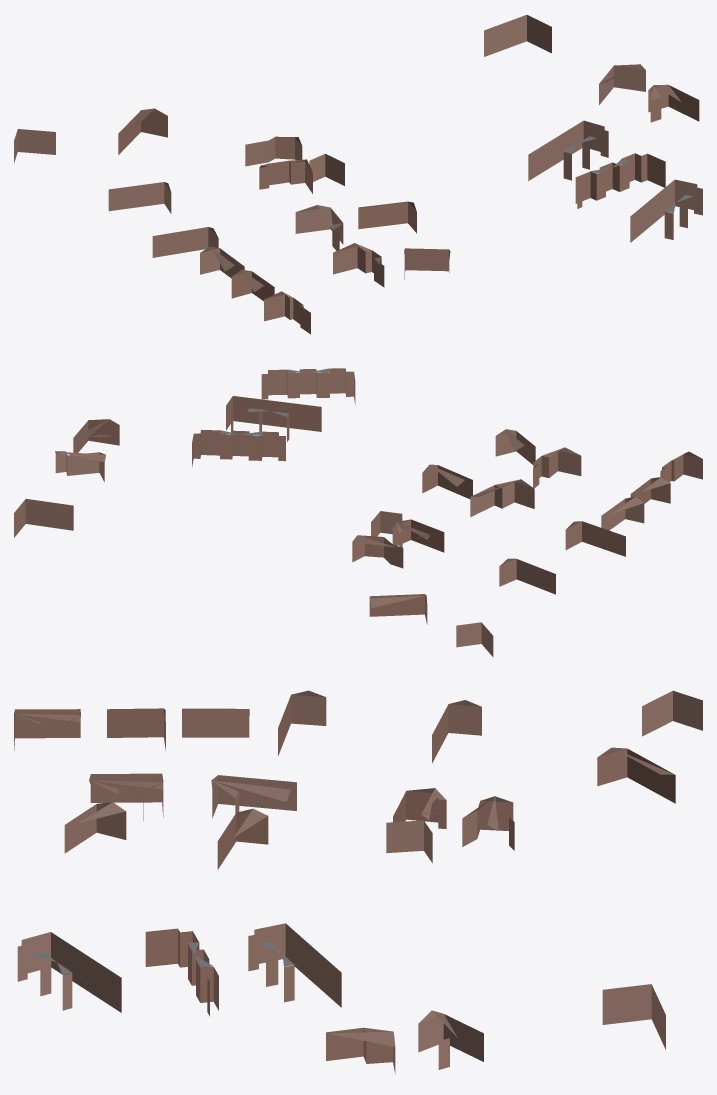
File: c_1643_17834_buildings_residential.glb
The picture shows the model from 3 angles, top to bottom: view 1: azimuth 30°, elevation 25°; view 2: azimuth 150°, elevation 25°; view 3: azimuth 270°, elevation 25°; orthographic projection. The views are drawn at different scales.
Parts seen in each view (by area): view 1: geometry_0; view 2: geometry_0; view 3: geometry_0.
Boxes of the visible parts, box(x1,y1,x2,y2) form: geometry_0: box(14, 15, 702, 334); geometry_0: box(14, 368, 702, 656); geometry_0: box(14, 690, 702, 1073).
Size of the model in its own units: 240 by 11.08 by 195.
